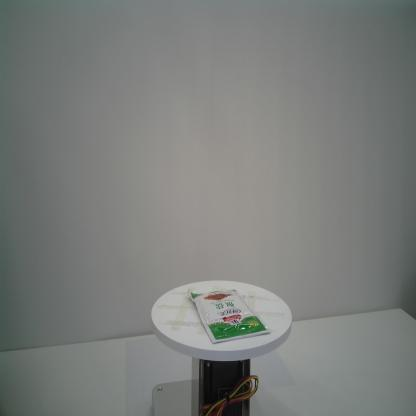Seasoner: (186, 286, 271, 344)
